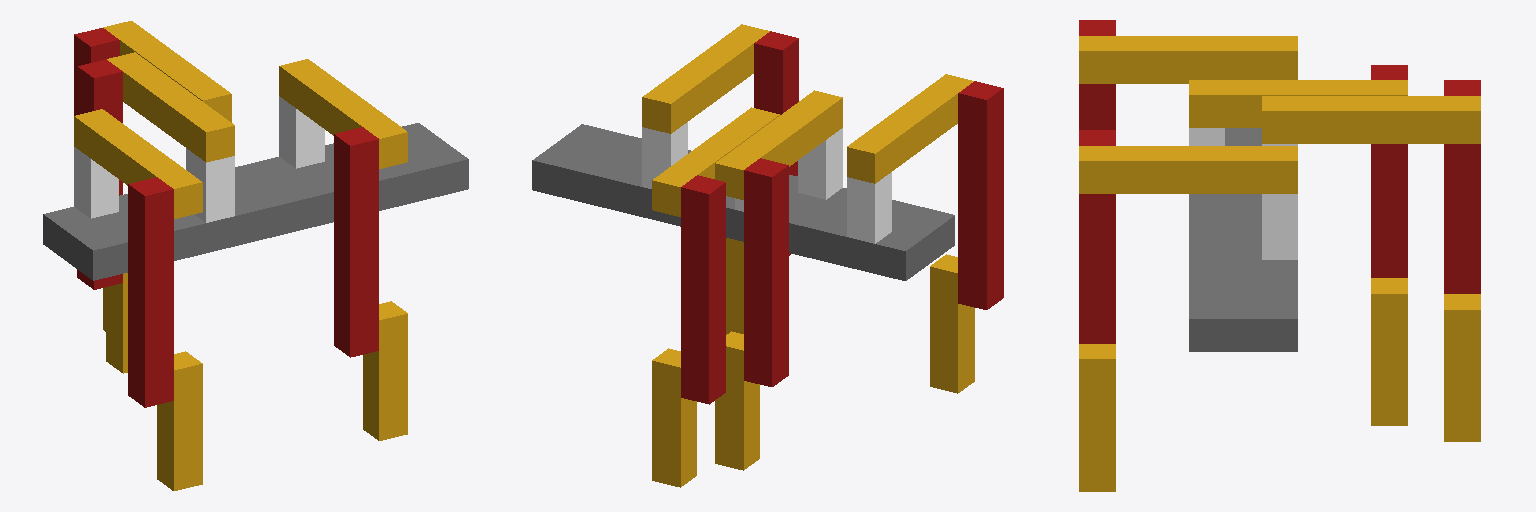
The robot description file, URDF, robot "v0":
<?xml version="1.0" encoding="utf-8"?>
<!-- =================================================================================== -->
<!-- |    This document was autogenerated by xacro from ../robots/v0variants/xacros/v0_4l_2.xacro | -->
<!-- |    EDITING THIS FILE BY HAND IS NOT RECOMMENDED                                 | -->
<!-- =================================================================================== -->
<robot name="v0">
  <material name="grey">
    <color rgba="0.5 0.5 0.5 1"/>
  </material>
  <material name="white">
    <color rgba="1 1 1 1"/>
  </material>
  <material name="yellow">
    <color rgba="0.91 0.7 0.14 1"/>
  </material>
  <material name="red">
    <color rgba="0.71 0.14 0.14 1"/>
  </material>
  <link name="body">
    <visual>
      <geometry>
        <box size="1.3 0.3 0.1"/>
      </geometry>
      <material name="grey"/>
      <origin rpy="0 0 0" xyz="0 0 0.7"/>
    </visual>
    <collision>
      <geometry>
        <box size="1.3 0.3 0.1"/>
      </geometry>
      <origin rpy="0 0 0" xyz="0 0 0.7"/>
    </collision>
    <inertial>
      <mass value="99.84"/>
      <inertia ixx="0.832" ixy="0.0" ixz="0.0" iyy="14.144" iyz="0.0" izz="14.8096"/>
    </inertial>
  </link>
  <link name="l1_segment_1">
    <visual>
      <geometry>
        <box size="0.1 0.1 0.2"/>
      </geometry>
      <material name="white"/>
      <origin rpy="0 0 0" xyz="0 0 0.1"/>
    </visual>
    <collision>
      <geometry>
        <box size="0.1 0.1 0.2"/>
      </geometry>
      <origin rpy="0 0 0" xyz="0 0 0.1"/>
    </collision>
    <inertial>
      <mass value="5.12"/>
      <inertia ixx="0.0213333333333" ixy="0.0" ixz="0.0" iyy="0.0213333333333" iyz="0.0" izz="0.00853333333333"/>
    </inertial>
  </link>
  <joint name="l1_base_to_joint_1" type="fixed">
    <parent link="body"/>
    <child link="l1_segment_1"/>
    <origin rpy="0 0 0" xyz="-0.20849219016747111 -0.1 0.75"/>
  </joint>
  <link name="l1_segment_2_HIP">
    <visual>
      <geometry>
        <box size="0.1 0.6 0.1"/>
      </geometry>
      <material name="yellow"/>
      <origin rpy="0 0 0" xyz="0 0.25 0"/>
    </visual>
    <collision>
      <geometry>
        <box size="0.1 0.6 0.1"/>
      </geometry>
      <origin rpy="0 0 0" xyz="0 0.25 0"/>
    </collision>
    <inertial>
      <mass value="15.36"/>
      <inertia ixx="0.4736" ixy="0.0" ixz="0.0" iyy="0.0256" iyz="0.0" izz="0.4736"/>
    </inertial>
  </link>
  <joint name="l1_joint_1_to_2" type="revolute">
    <parent link="l1_segment_1"/>
    <child link="l1_segment_2_HIP"/>
    <origin rpy="0 0 0" xyz="0 0 0.25"/>
    <axis xyz="0.0 0.0 1.0"/>
    <limit effort="2048" lower="-1.2" upper="1.2" velocity="20"/>
  </joint>
  <link name="l1_segment_3_THIGH">
    <visual>
      <geometry>
        <box size="0.1 0.1 0.7"/>
      </geometry>
      <material name="red"/>
      <origin rpy="0 0 0" xyz="0 0 -0.3"/>
    </visual>
    <collision>
      <geometry>
        <box size="0.1 0.1 0.7"/>
      </geometry>
      <origin rpy="0 0 0" xyz="0 0 -0.3"/>
    </collision>
    <inertial>
      <mass value="17.92"/>
      <inertia ixx="0.746666666667" ixy="0.0" ixz="0.0" iyy="0.746666666667" iyz="0.0" izz="0.0298666666667"/>
    </inertial>
  </link>
  <joint name="l1_joint_2_to_3" type="revolute">
    <parent link="l1_segment_2_HIP"/>
    <child link="l1_segment_3_THIGH"/>
    <origin rpy="0 0 0" xyz="-0.1 0.5 0"/>
    <axis xyz="1.0 0.0 0.0"/>
    <limit effort="2048" lower="-0.2" upper="0.75" velocity="20"/>
  </joint>
  <link name="l1_segment_4_FOOT">
    <visual>
      <geometry>
        <box size="0.1 0.1 0.4"/>
      </geometry>
      <material name="yellow"/>
      <origin rpy="0 0 0" xyz="0 0 -0.2"/>
    </visual>
    <collision>
      <geometry>
        <box size="0.1 0.1 0.4"/>
      </geometry>
      <origin rpy="0 0 0" xyz="0 0 -0.2"/>
    </collision>
    <inertial>
      <mass value="10.24"/>
      <inertia ixx="0.145066666667" ixy="0.0" ixz="0.0" iyy="0.145066666667" iyz="0.0" izz="0.0170666666667"/>
    </inertial>
  </link>
  <joint name="l1_joint_3_to_4_FOOT" type="revolute">
    <parent link="l1_segment_3_THIGH"/>
    <child link="l1_segment_4_FOOT"/>
    <origin rpy="0 0 0" xyz="0.1 0 -0.55"/>
    <axis xyz="1.0 0.0 0.0"/>
    <limit effort="2048" lower="-0.2" upper="0.5" velocity="20"/>
  </joint>
  <link name="r2_segment_1">
    <visual>
      <geometry>
        <box size="0.1 0.1 0.2"/>
      </geometry>
      <material name="white"/>
      <origin rpy="0 0 0" xyz="0 0 0.1"/>
    </visual>
    <collision>
      <geometry>
        <box size="0.1 0.1 0.2"/>
      </geometry>
      <origin rpy="0 0 0" xyz="0 0 0.1"/>
    </collision>
    <inertial>
      <mass value="5.12"/>
      <inertia ixx="0.0213333333333" ixy="0.0" ixz="0.0" iyy="0.0213333333333" iyz="0.0" izz="0.00853333333333"/>
    </inertial>
  </link>
  <joint name="r2_base_to_joint_1" type="fixed">
    <parent link="body"/>
    <child link="r2_segment_1"/>
    <origin rpy="0 0 0" xyz="-0.49409089610986934 0.1 0.75"/>
  </joint>
  <link name="r2_segment_2_HIP">
    <visual>
      <geometry>
        <box size="0.1 0.6 0.1"/>
      </geometry>
      <material name="yellow"/>
      <origin rpy="0 0 0" xyz="0 -0.25 0"/>
    </visual>
    <collision>
      <geometry>
        <box size="0.1 0.6 0.1"/>
      </geometry>
      <origin rpy="0 0 0" xyz="0 -0.25 0"/>
    </collision>
    <inertial>
      <mass value="15.36"/>
      <inertia ixx="0.4736" ixy="0.0" ixz="0.0" iyy="0.0256" iyz="0.0" izz="0.4736"/>
    </inertial>
  </link>
  <joint name="r2_joint_1_to_2" type="revolute">
    <parent link="r2_segment_1"/>
    <child link="r2_segment_2_HIP"/>
    <origin rpy="0 0 0" xyz="0 0 0.25"/>
    <axis xyz="0.0 0.0 1.0"/>
    <limit effort="2048" lower="-1.2" upper="1.2" velocity="20"/>
  </joint>
  <link name="r2_segment_3_THIGH">
    <visual>
      <geometry>
        <box size="0.1 0.1 0.7"/>
      </geometry>
      <material name="red"/>
      <origin rpy="0 0 0" xyz="0 0 -0.3"/>
    </visual>
    <collision>
      <geometry>
        <box size="0.1 0.1 0.7"/>
      </geometry>
      <origin rpy="0 0 0" xyz="0 0 -0.3"/>
    </collision>
    <inertial>
      <mass value="17.92"/>
      <inertia ixx="0.746666666667" ixy="0.0" ixz="0.0" iyy="0.746666666667" iyz="0.0" izz="0.0298666666667"/>
    </inertial>
  </link>
  <joint name="r2_joint_2_to_3" type="revolute">
    <parent link="r2_segment_2_HIP"/>
    <child link="r2_segment_3_THIGH"/>
    <origin rpy="0 0 0" xyz="-0.1 -0.5 0"/>
    <axis xyz="1.0 0.0 0.0"/>
    <limit effort="2048" lower="-0.75" upper="0.2" velocity="20"/>
  </joint>
  <link name="r2_segment_4_FOOT">
    <visual>
      <geometry>
        <box size="0.1 0.1 0.4"/>
      </geometry>
      <material name="yellow"/>
      <origin rpy="0 0 0" xyz="0 0 -0.2"/>
    </visual>
    <collision>
      <geometry>
        <box size="0.1 0.1 0.4"/>
      </geometry>
      <origin rpy="0 0 0" xyz="0 0 -0.2"/>
    </collision>
    <inertial>
      <mass value="10.24"/>
      <inertia ixx="0.145066666667" ixy="0.0" ixz="0.0" iyy="0.145066666667" iyz="0.0" izz="0.0170666666667"/>
    </inertial>
  </link>
  <joint name="r2_joint_3_to_4_FOOT" type="revolute">
    <parent link="r2_segment_3_THIGH"/>
    <child link="r2_segment_4_FOOT"/>
    <origin rpy="0 0 0" xyz="0.1 0 -0.55"/>
    <axis xyz="1.0 0.0 0.0"/>
    <limit effort="2048" lower="-0.5" upper="0.2" velocity="20"/>
  </joint>
  <link name="l3_segment_1">
    <visual>
      <geometry>
        <box size="0.1 0.1 0.2"/>
      </geometry>
      <material name="white"/>
      <origin rpy="0 0 0" xyz="0 0 0.1"/>
    </visual>
    <collision>
      <geometry>
        <box size="0.1 0.1 0.2"/>
      </geometry>
      <origin rpy="0 0 0" xyz="0 0 0.1"/>
    </collision>
    <inertial>
      <mass value="5.12"/>
      <inertia ixx="0.0213333333333" ixy="0.0" ixz="0.0" iyy="0.0213333333333" iyz="0.0" izz="0.00853333333333"/>
    </inertial>
  </link>
  <joint name="l3_base_to_joint_1" type="fixed">
    <parent link="body"/>
    <child link="l3_segment_1"/>
    <origin rpy="0 0 0" xyz="-0.10491550056985774 0.1 0.75"/>
  </joint>
  <link name="l3_segment_2_HIP">
    <visual>
      <geometry>
        <box size="0.1 0.6 0.1"/>
      </geometry>
      <material name="yellow"/>
      <origin rpy="0 0 0" xyz="0 0.25 0"/>
    </visual>
    <collision>
      <geometry>
        <box size="0.1 0.6 0.1"/>
      </geometry>
      <origin rpy="0 0 0" xyz="0 0.25 0"/>
    </collision>
    <inertial>
      <mass value="15.36"/>
      <inertia ixx="0.4736" ixy="0.0" ixz="0.0" iyy="0.0256" iyz="0.0" izz="0.4736"/>
    </inertial>
  </link>
  <joint name="l3_joint_1_to_2" type="revolute">
    <parent link="l3_segment_1"/>
    <child link="l3_segment_2_HIP"/>
    <origin rpy="0 0 0" xyz="0 0 0.25"/>
    <axis xyz="0.0 0.0 1.0"/>
    <limit effort="2048" lower="-1.2" upper="1.2" velocity="20"/>
  </joint>
  <link name="l3_segment_3_THIGH">
    <visual>
      <geometry>
        <box size="0.1 0.1 0.7"/>
      </geometry>
      <material name="red"/>
      <origin rpy="0 0 0" xyz="0 0 -0.3"/>
    </visual>
    <collision>
      <geometry>
        <box size="0.1 0.1 0.7"/>
      </geometry>
      <origin rpy="0 0 0" xyz="0 0 -0.3"/>
    </collision>
    <inertial>
      <mass value="17.92"/>
      <inertia ixx="0.746666666667" ixy="0.0" ixz="0.0" iyy="0.746666666667" iyz="0.0" izz="0.0298666666667"/>
    </inertial>
  </link>
  <joint name="l3_joint_2_to_3" type="revolute">
    <parent link="l3_segment_2_HIP"/>
    <child link="l3_segment_3_THIGH"/>
    <origin rpy="0 0 0" xyz="-0.1 0.5 0"/>
    <axis xyz="1.0 0.0 0.0"/>
    <limit effort="2048" lower="-0.2" upper="0.75" velocity="20"/>
  </joint>
  <link name="l3_segment_4_FOOT">
    <visual>
      <geometry>
        <box size="0.1 0.1 0.4"/>
      </geometry>
      <material name="yellow"/>
      <origin rpy="0 0 0" xyz="0 0 -0.2"/>
    </visual>
    <collision>
      <geometry>
        <box size="0.1 0.1 0.4"/>
      </geometry>
      <origin rpy="0 0 0" xyz="0 0 -0.2"/>
    </collision>
    <inertial>
      <mass value="10.24"/>
      <inertia ixx="0.145066666667" ixy="0.0" ixz="0.0" iyy="0.145066666667" iyz="0.0" izz="0.0170666666667"/>
    </inertial>
  </link>
  <joint name="l3_joint_3_to_4_FOOT" type="revolute">
    <parent link="l3_segment_3_THIGH"/>
    <child link="l3_segment_4_FOOT"/>
    <origin rpy="0 0 0" xyz="0.1 0 -0.55"/>
    <axis xyz="1.0 0.0 0.0"/>
    <limit effort="2048" lower="-0.2" upper="0.5" velocity="20"/>
  </joint>
  <link name="r4_segment_1">
    <visual>
      <geometry>
        <box size="0.1 0.1 0.2"/>
      </geometry>
      <material name="white"/>
      <origin rpy="0 0 0" xyz="0 0 0.1"/>
    </visual>
    <collision>
      <geometry>
        <box size="0.1 0.1 0.2"/>
      </geometry>
      <origin rpy="0 0 0" xyz="0 0 0.1"/>
    </collision>
    <inertial>
      <mass value="5.12"/>
      <inertia ixx="0.0213333333333" ixy="0.0" ixz="0.0" iyy="0.0213333333333" iyz="0.0" izz="0.00853333333333"/>
    </inertial>
  </link>
  <joint name="r4_base_to_joint_1" type="fixed">
    <parent link="body"/>
    <child link="r4_segment_1"/>
    <origin rpy="0 0 0" xyz="0.21727063579067774 0.1 0.75"/>
  </joint>
  <link name="r4_segment_2_HIP">
    <visual>
      <geometry>
        <box size="0.1 0.6 0.1"/>
      </geometry>
      <material name="yellow"/>
      <origin rpy="0 0 0" xyz="0 -0.25 0"/>
    </visual>
    <collision>
      <geometry>
        <box size="0.1 0.6 0.1"/>
      </geometry>
      <origin rpy="0 0 0" xyz="0 -0.25 0"/>
    </collision>
    <inertial>
      <mass value="15.36"/>
      <inertia ixx="0.4736" ixy="0.0" ixz="0.0" iyy="0.0256" iyz="0.0" izz="0.4736"/>
    </inertial>
  </link>
  <joint name="r4_joint_1_to_2" type="revolute">
    <parent link="r4_segment_1"/>
    <child link="r4_segment_2_HIP"/>
    <origin rpy="0 0 0" xyz="0 0 0.25"/>
    <axis xyz="0.0 0.0 1.0"/>
    <limit effort="2048" lower="-1.2" upper="1.2" velocity="20"/>
  </joint>
  <link name="r4_segment_3_THIGH">
    <visual>
      <geometry>
        <box size="0.1 0.1 0.7"/>
      </geometry>
      <material name="red"/>
      <origin rpy="0 0 0" xyz="0 0 -0.3"/>
    </visual>
    <collision>
      <geometry>
        <box size="0.1 0.1 0.7"/>
      </geometry>
      <origin rpy="0 0 0" xyz="0 0 -0.3"/>
    </collision>
    <inertial>
      <mass value="17.92"/>
      <inertia ixx="0.746666666667" ixy="0.0" ixz="0.0" iyy="0.746666666667" iyz="0.0" izz="0.0298666666667"/>
    </inertial>
  </link>
  <joint name="r4_joint_2_to_3" type="revolute">
    <parent link="r4_segment_2_HIP"/>
    <child link="r4_segment_3_THIGH"/>
    <origin rpy="0 0 0" xyz="-0.1 -0.5 0"/>
    <axis xyz="1.0 0.0 0.0"/>
    <limit effort="2048" lower="-0.75" upper="0.2" velocity="20"/>
  </joint>
  <link name="r4_segment_4_FOOT">
    <visual>
      <geometry>
        <box size="0.1 0.1 0.4"/>
      </geometry>
      <material name="yellow"/>
      <origin rpy="0 0 0" xyz="0 0 -0.2"/>
    </visual>
    <collision>
      <geometry>
        <box size="0.1 0.1 0.4"/>
      </geometry>
      <origin rpy="0 0 0" xyz="0 0 -0.2"/>
    </collision>
    <inertial>
      <mass value="10.24"/>
      <inertia ixx="0.145066666667" ixy="0.0" ixz="0.0" iyy="0.145066666667" iyz="0.0" izz="0.0170666666667"/>
    </inertial>
  </link>
  <joint name="r4_joint_3_to_4_FOOT" type="revolute">
    <parent link="r4_segment_3_THIGH"/>
    <child link="r4_segment_4_FOOT"/>
    <origin rpy="0 0 0" xyz="0.1 0 -0.55"/>
    <axis xyz="1.0 0.0 0.0"/>
    <limit effort="2048" lower="-0.5" upper="0.2" velocity="20"/>
  </joint>
</robot>

--- Render facts (derived) ---
3 views of the same robot in one strip: view 1: azimuth 30°, elevation 25°; view 2: azimuth 150°, elevation 25°; view 3: azimuth 270°, elevation 25° (orthographic).
Model v0 with 17 links and 16 joints (12 revolute, 4 fixed), rooted at body, posed every joint at zero.
Visible links, largest first — view 1: body, r2_segment_3_THIGH, r4_segment_3_THIGH, l1_segment_2_HIP, r4_segment_2_HIP, r2_segment_2_HIP, r2_segment_4_FOOT, r4_segment_4_FOOT, l3_segment_2_HIP, l1_segment_3_THIGH, r4_segment_1, r2_segment_1 (+3 smaller); view 2: body, r2_segment_3_THIGH, l1_segment_3_THIGH, l3_segment_3_THIGH, r4_segment_2_HIP, r2_segment_2_HIP, l1_segment_2_HIP, l3_segment_4_FOOT, r2_segment_4_FOOT, l1_segment_4_FOOT, l3_segment_2_HIP, r4_segment_3_THIGH (+4 smaller); view 3: body, l3_segment_2_HIP, r4_segment_2_HIP, r2_segment_2_HIP, l3_segment_3_THIGH, r4_segment_3_THIGH, l1_segment_2_HIP, l1_segment_3_THIGH, l1_segment_4_FOOT, l3_segment_4_FOOT, r4_segment_4_FOOT, r4_segment_1 (+2 smaller).
Boxes of the visible links, x1,y1,x2,y2 form: body: (43,123,468,280); r2_segment_3_THIGH: (128,177,173,407); r4_segment_3_THIGH: (334,127,378,357); l1_segment_2_HIP: (107,52,234,162); r4_segment_2_HIP: (279,59,407,168); r2_segment_2_HIP: (74,109,202,218); r2_segment_4_FOOT: (157,351,202,490); r4_segment_4_FOOT: (363,301,407,440); l3_segment_2_HIP: (103,21,231,122); l1_segment_3_THIGH: (77,59,122,289); r4_segment_1: (279,96,324,168); r2_segment_1: (74,147,118,218); body: (532,124,954,280); r2_segment_3_THIGH: (958,81,1003,309); l1_segment_3_THIGH: (744,158,788,386); l3_segment_3_THIGH: (681,175,725,404); r4_segment_2_HIP: (642,24,769,133); r2_segment_2_HIP: (847,74,973,183); l1_segment_2_HIP: (715,90,842,199); l3_segment_4_FOOT: (652,348,696,487); r2_segment_4_FOOT: (930,254,974,393); l1_segment_4_FOOT: (715,331,759,470); l3_segment_2_HIP: (652,107,779,216); r4_segment_3_THIGH: (754,31,798,255); body: (1189,128,1297,351); l3_segment_2_HIP: (1262,96,1480,143); r4_segment_2_HIP: (1079,146,1297,193); r2_segment_2_HIP: (1079,36,1297,83); l3_segment_3_THIGH: (1444,80,1480,293); r4_segment_3_THIGH: (1079,130,1115,343); l1_segment_2_HIP: (1189,80,1407,127); l1_segment_3_THIGH: (1371,65,1407,277); l1_segment_4_FOOT: (1371,278,1407,425); l3_segment_4_FOOT: (1444,294,1480,441); r4_segment_4_FOOT: (1079,344,1115,491); r4_segment_1: (1262,194,1297,259).
Size in the robot's own frame: 1.3 by 1.1 by 1 metres.
Geometry: primitives only (box / cylinder / sphere), no mesh files.